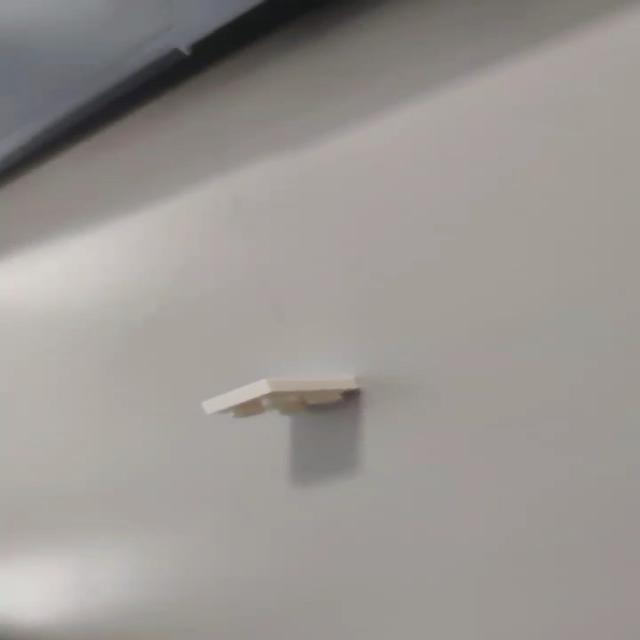C2x2x0: (204, 378, 360, 415)
